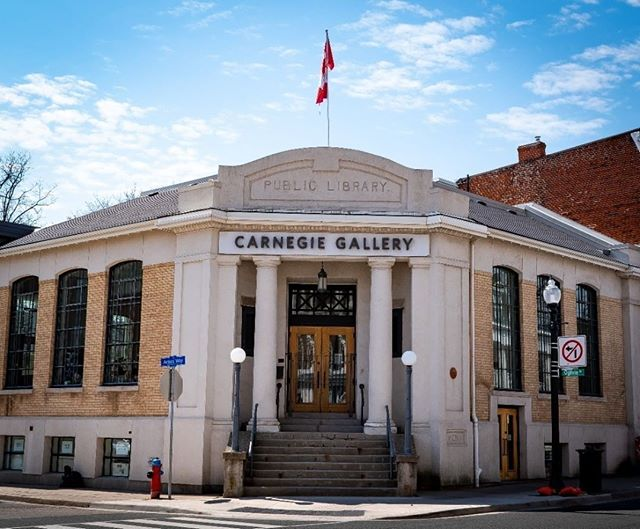building: (1, 149, 631, 480)
flag: (307, 23, 355, 127)
sign: (549, 331, 594, 376)
sky: (13, 1, 640, 201)
